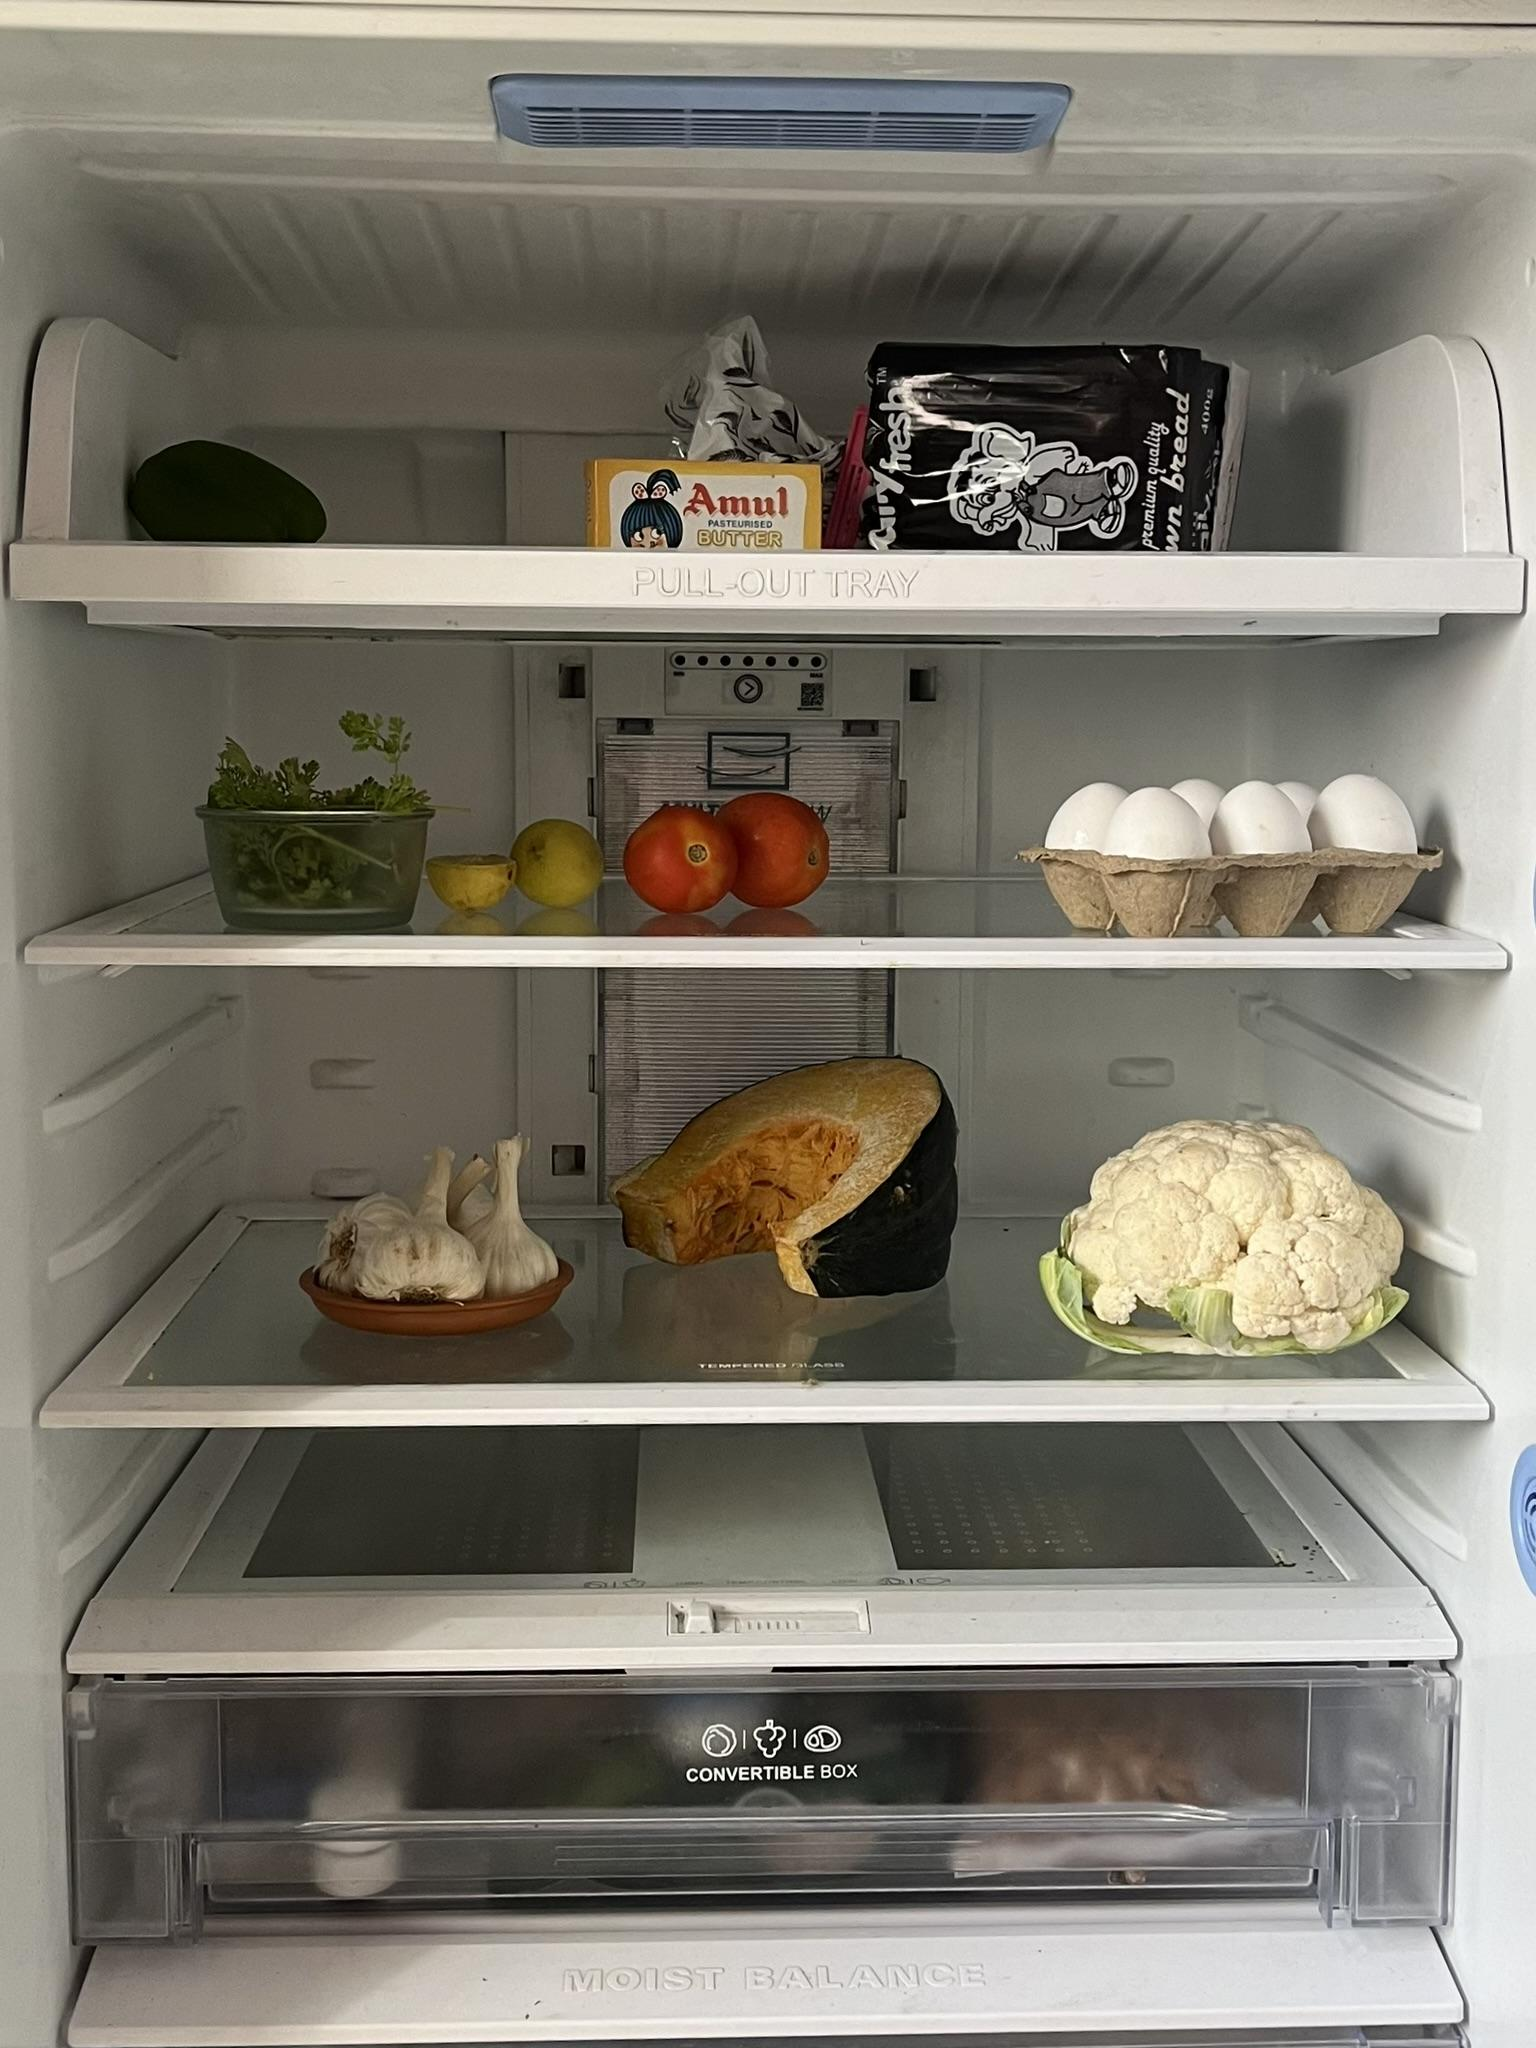bread: (691, 319, 1241, 556)
butter: (584, 456, 823, 553)
capsicum: (123, 437, 331, 553)
cauliflower: (1047, 1121, 1410, 1350)
coriander: (219, 731, 416, 930)
egg: (1044, 774, 1423, 910)
garlic: (313, 1130, 560, 1306)
lemon: (434, 816, 597, 916)
pumpkin: (616, 1047, 957, 1300)
tomato: (629, 793, 829, 913)
